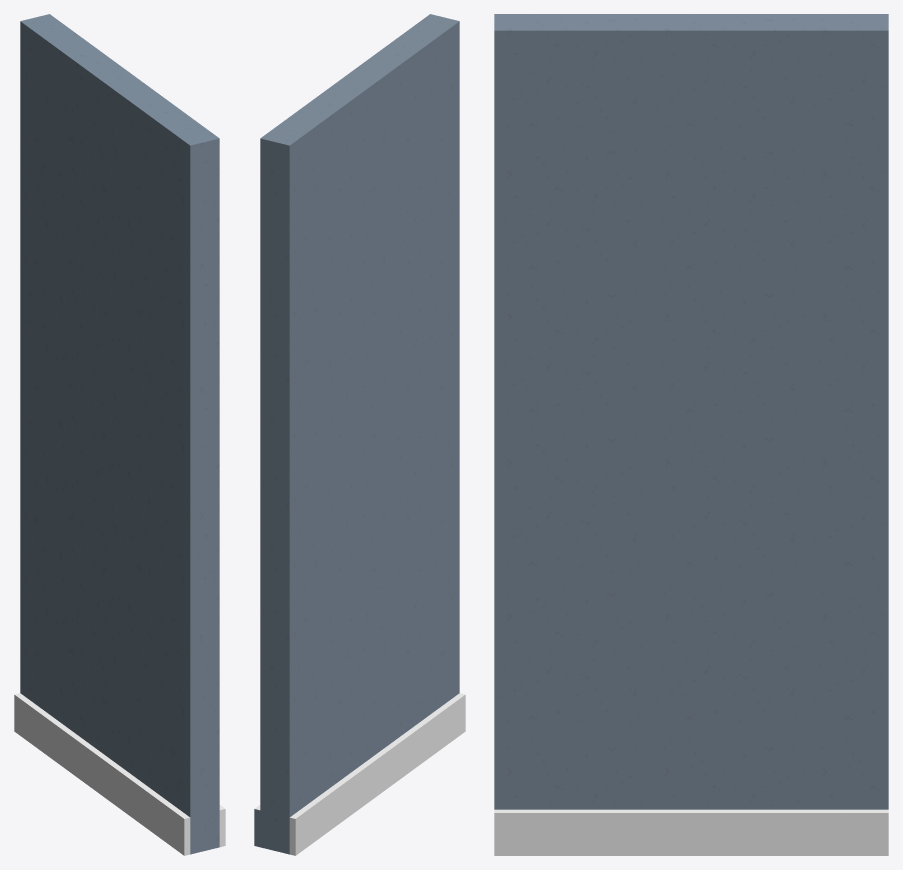
File: SM_Bld_House_Wall_02b.obj
3 views of the same model, side by side, from view 1: azimuth 30°, elevation 25°; view 2: azimuth 150°, elevation 25°; view 3: azimuth 270°, elevation 25° (orthographic). The views are drawn at different scales.
Visible parts, largest first — view 1: SM_Bld_House_Wall_02b_mi_HouseInteriorWalls_02, SM_Bld_House_Wall_02b_mi_WhiteTrim; view 2: SM_Bld_House_Wall_02b_mi_HouseInteriorWalls_02, SM_Bld_House_Wall_02b_mi_WhiteTrim; view 3: SM_Bld_House_Wall_02b_mi_HouseInteriorWalls_02, SM_Bld_House_Wall_02b_mi_WhiteTrim.
Part boxes in pixels (x1,y1,x2,y2): SM_Bld_House_Wall_02b_mi_HouseInteriorWalls_02: (20, 14, 219, 854); SM_Bld_House_Wall_02b_mi_WhiteTrim: (14, 693, 225, 855); SM_Bld_House_Wall_02b_mi_HouseInteriorWalls_02: (254, 14, 459, 854); SM_Bld_House_Wall_02b_mi_WhiteTrim: (255, 693, 465, 855); SM_Bld_House_Wall_02b_mi_HouseInteriorWalls_02: (494, 14, 888, 809); SM_Bld_House_Wall_02b_mi_WhiteTrim: (494, 809, 888, 855).
Bounding box in the file's own units: 0.35 × 5.75 × 2.5.
Materials: 2 (1 with a texture image).
